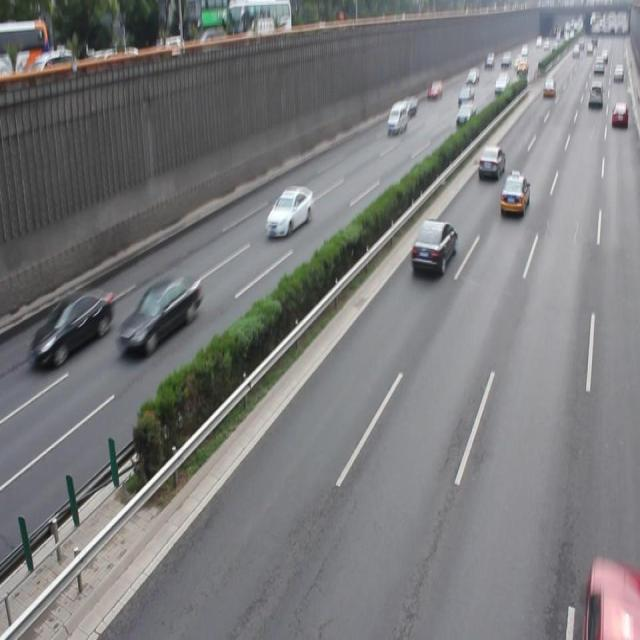car: (116, 275, 201, 357), (32, 288, 112, 370), (585, 558, 640, 640), (410, 220, 456, 278), (264, 186, 313, 238), (498, 176, 529, 219), (476, 147, 504, 182)
